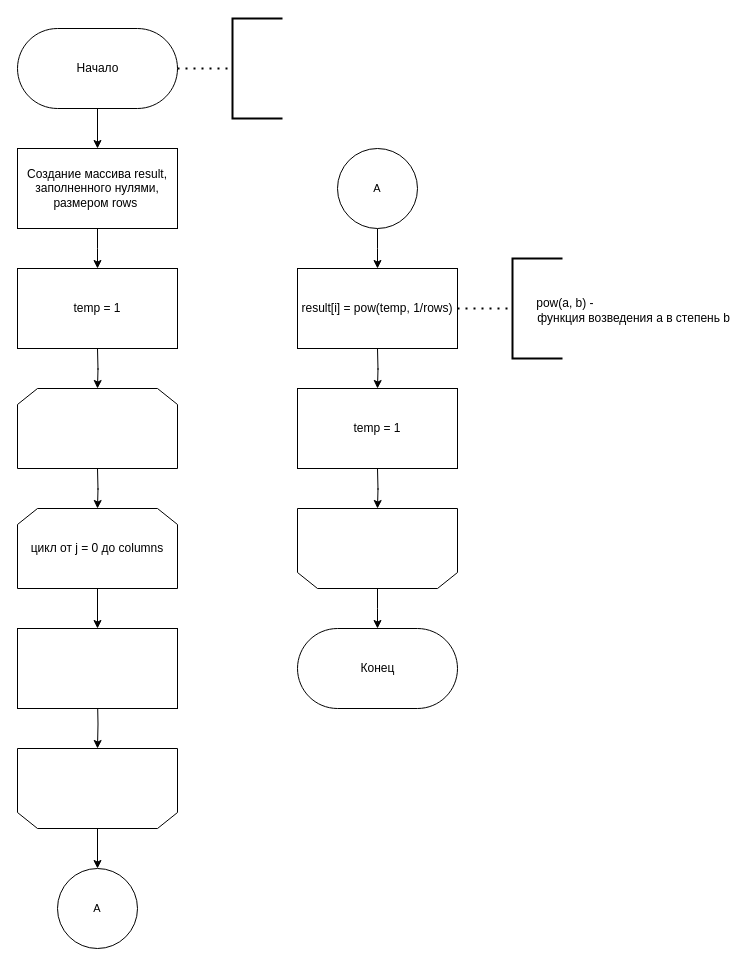
Image size: 748x966. Some labels were removed from this diagram. The shapes that lost their labels are listed below. From the top down, each one's box as (x1, y1, x2, y2) in pixels, then its label:
(231, 17, 283, 119): вход: matrix rows,columns выход: result
(16, 388, 178, 468): цикл от i = 0 до rows
(296, 508, 458, 588): увеличить i на 1 цикл i
(16, 628, 178, 708): temp *= matrix[i][j]
(16, 748, 178, 828): увеличить j на 1 цикл j
